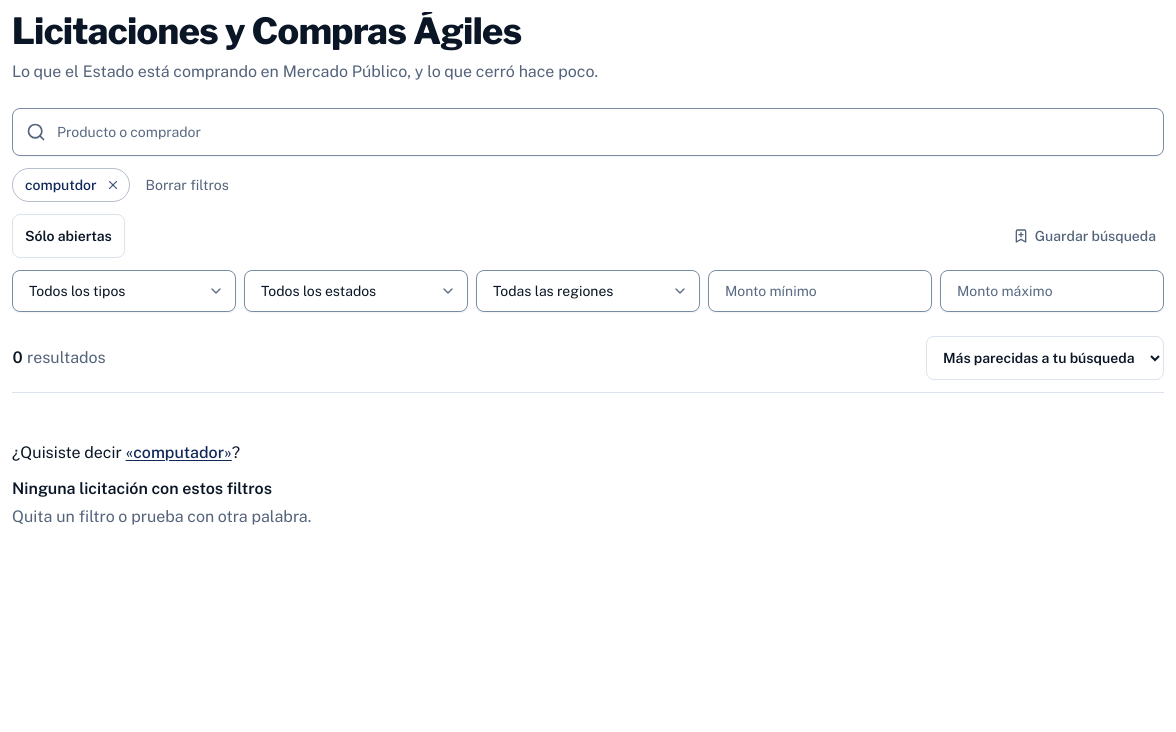
«¿Quisiste decir…?» › sin resultados propone la búsqueda corregida y pulsarla la busca, con los filtros
The image size is (1176, 732).
Click the button "«computador»" at (179, 453), box [126,441,232,465]
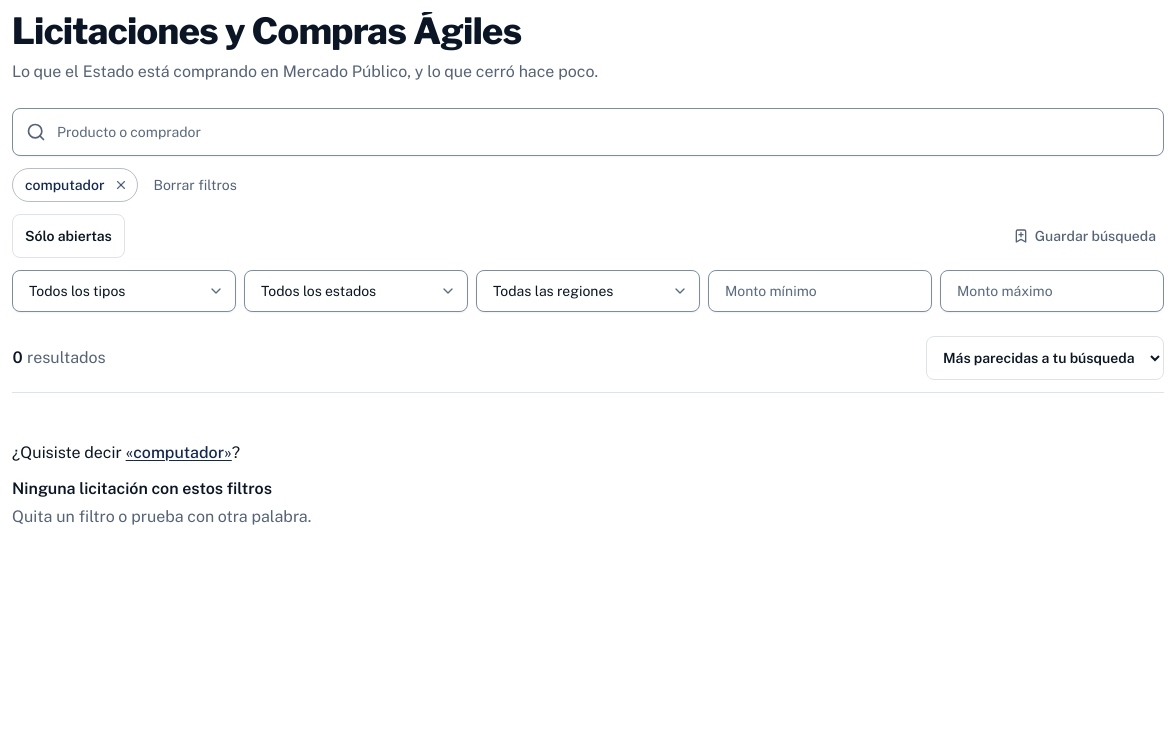
expect the element showing "computador" is shown: met, box [12,168,138,202]
